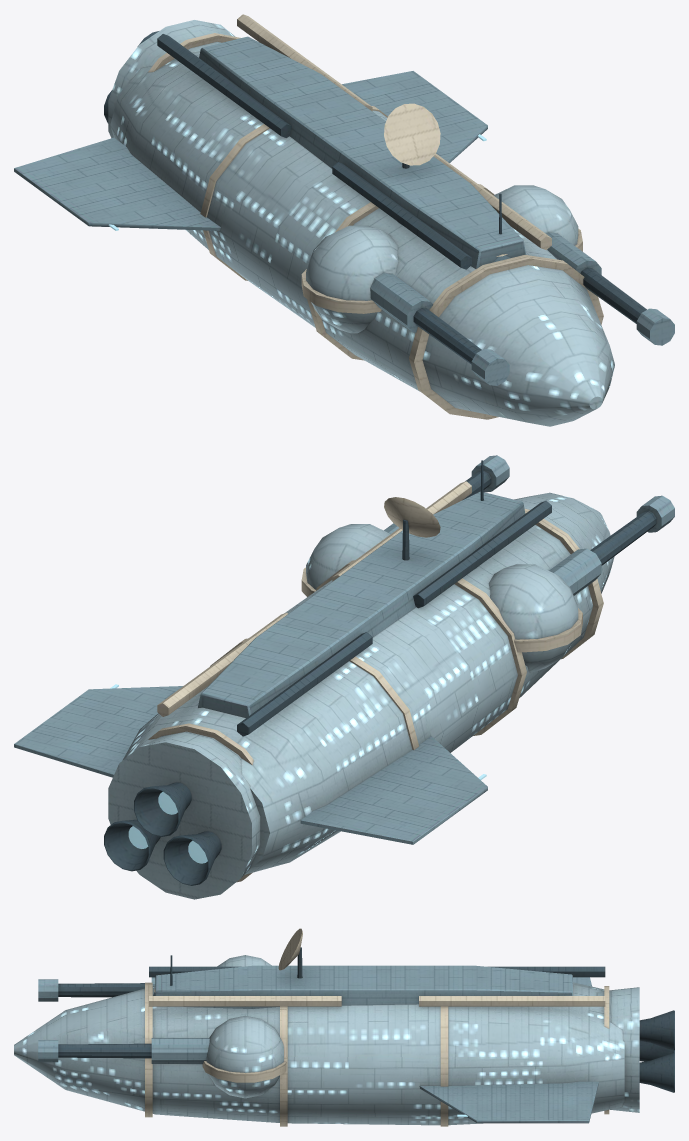
File: pell_destroyer.glb
The picture shows the model from 3 angles, top to bottom: view 1: azimuth 30°, elevation 25°; view 2: azimuth 150°, elevation 25°; view 3: azimuth 270°, elevation 25°; orthographic projection. The views are drawn at different scales.
Parts seen in each view (by area): view 1: HULL, SYS_WPN2, SYS_WPN1, SYS_BUS_F, SYS_BUS_A, SYS_DRIVE, SYS_SENSORS; view 2: HULL, SYS_DRIVE, SYS_WPN2, SYS_WPN1, SYS_BUS_A, SYS_BUS_F, SYS_SENSORS; view 3: HULL, SYS_WPN1, SYS_DRIVE, SYS_BUS_A, SYS_BUS_F, SYS_WPN2, SYS_SENSORS.
Part boxes in pixels (x1=…): HULL: x1=14, y1=36, x2=614, y2=426; SYS_WPN2: x1=301, y1=225, x2=509, y2=385; SYS_WPN1: x1=494, y1=185, x2=674, y2=345; SYS_BUS_F: x1=332, y1=153, x2=551, y2=269; SYS_BUS_A: x1=157, y1=14, x2=372, y2=137; SYS_DRIVE: x1=104, y1=20, x2=240, y2=138; SYS_SENSORS: x1=384, y1=103, x2=440, y2=168; HULL: x1=14, y1=491, x2=614, y2=874; SYS_DRIVE: x1=104, y1=723, x2=260, y2=899; SYS_WPN2: x1=488, y1=495, x2=674, y2=671; SYS_WPN1: x1=301, y1=455, x2=509, y2=596; SYS_BUS_A: x1=157, y1=612, x2=372, y2=736; SYS_BUS_F: x1=332, y1=481, x2=551, y2=608; SYS_SENSORS: x1=384, y1=497, x2=440, y2=560; HULL: x1=14, y1=965, x2=624, y2=1126; SYS_WPN1: x1=38, y1=1015, x2=286, y2=1098; SYS_DRIVE: x1=596, y1=986, x2=674, y2=1114; SYS_BUS_A: x1=419, y1=966, x2=605, y2=1006; SYS_BUS_F: x1=149, y1=966, x2=341, y2=1006; SYS_WPN2: x1=38, y1=955, x2=271, y2=1001; SYS_SENSORS: x1=278, y1=928, x2=302, y2=978.
Size of the model in its own units: 24.71 by 14.44 by 47.07.
Materials: 1 (1 with a texture image).
